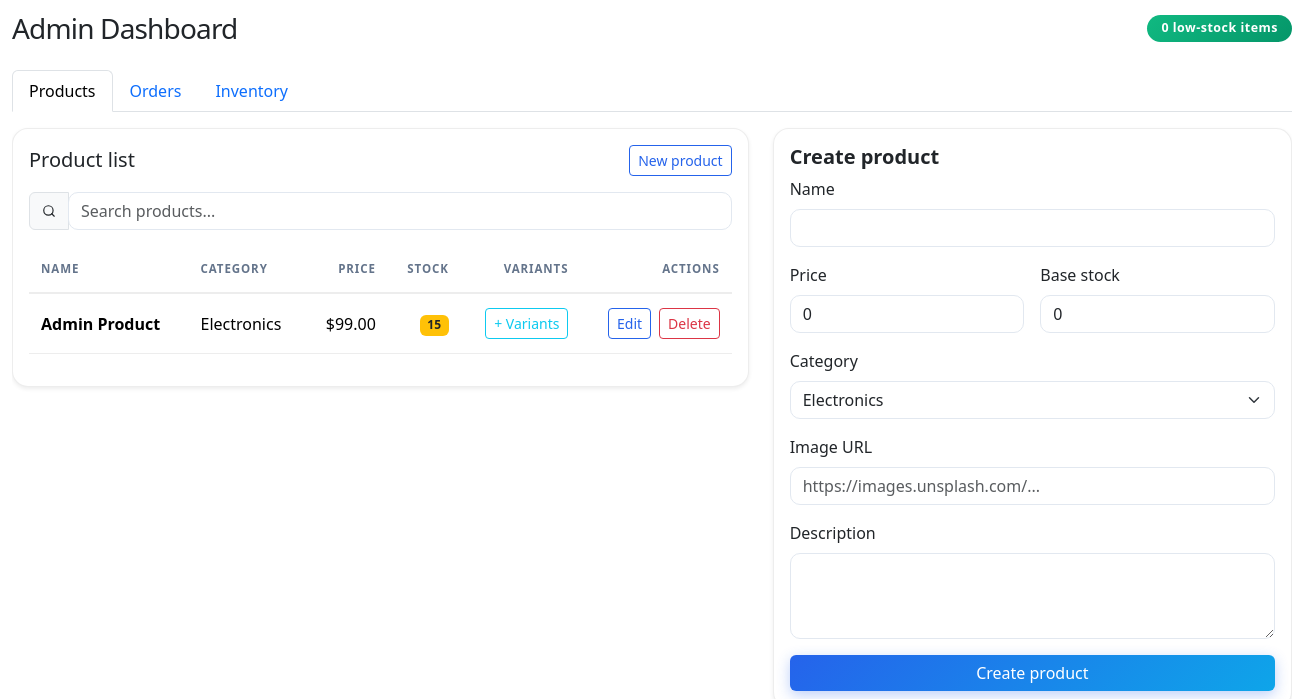
AdminDashboardPage › "Edit" button populates the form with product data
This screenshot has width=1292, height=699.
Click the button "Edit" at coordinates (630, 324), box [608, 308, 651, 339]
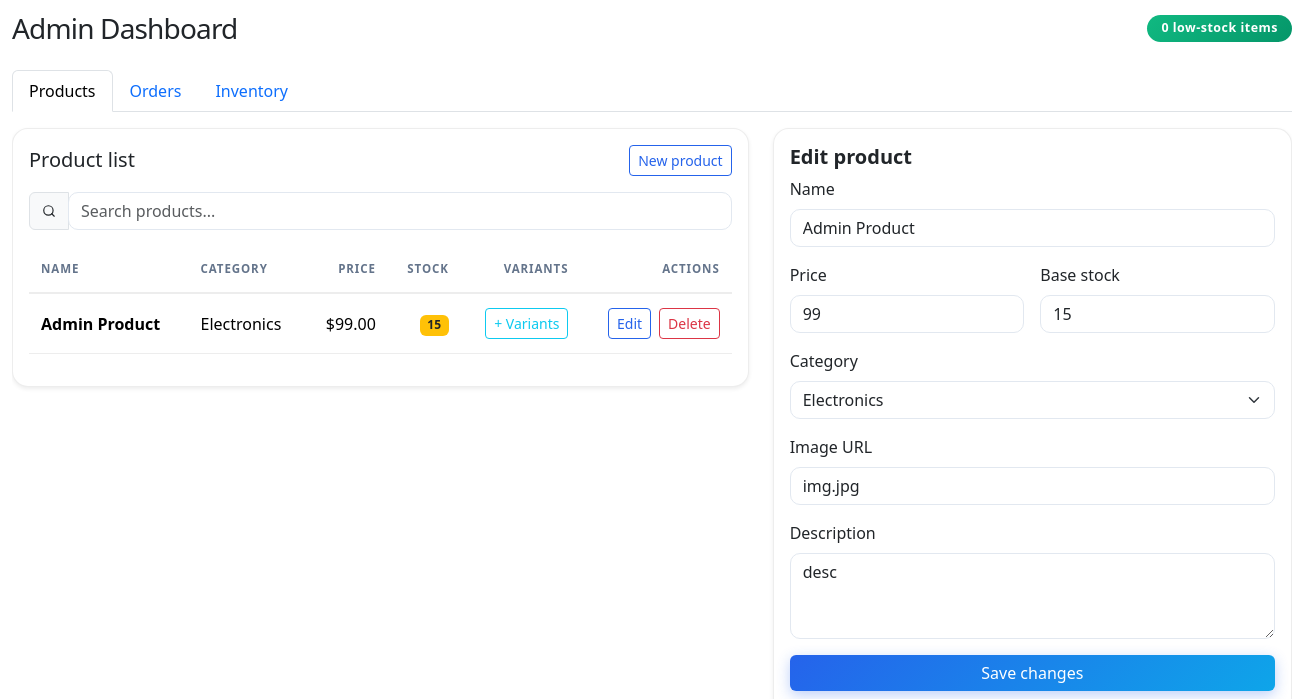
Check: the field showing "Admin Product" is shown, box [790, 209, 1275, 247]
Check: the number field showing "99" is shown, box [790, 295, 1024, 333]
